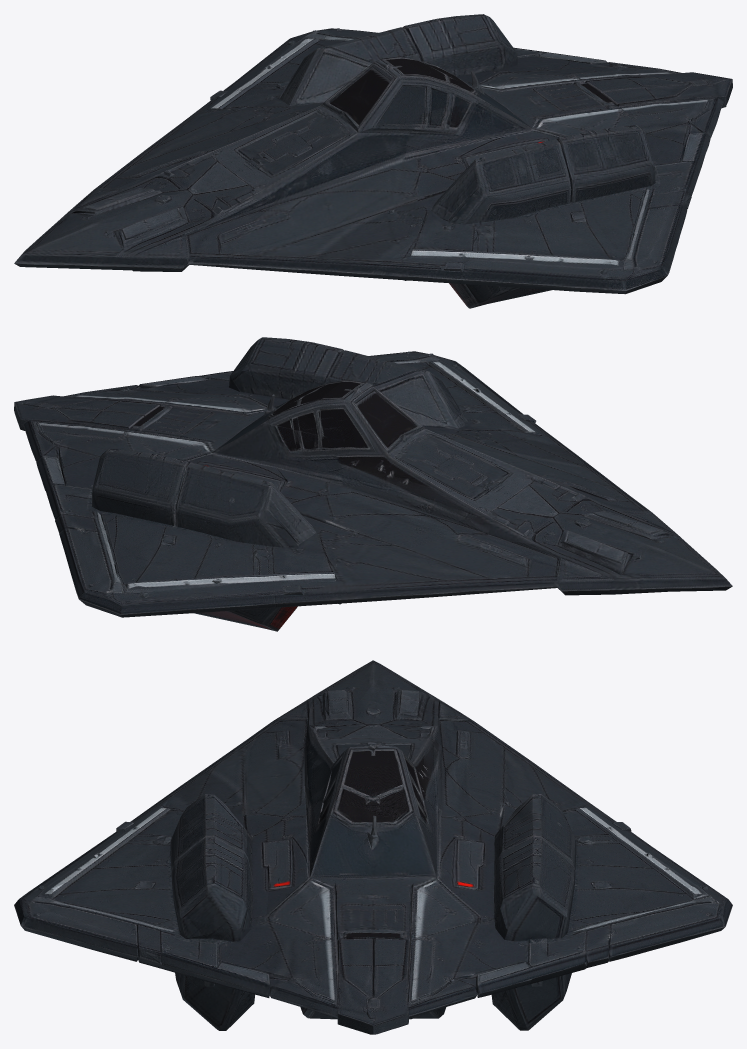
The model's file is fighter.glb.
3 renders of one model, top to bottom at view 1: azimuth 30°, elevation 25°; view 2: azimuth 150°, elevation 25°; view 3: azimuth 270°, elevation 25°, orthographic. The views are drawn at different scales.
Bounding box in the file's own units: 1.9 × 0.4847 × 1.55.
1 material, 1 textured.
